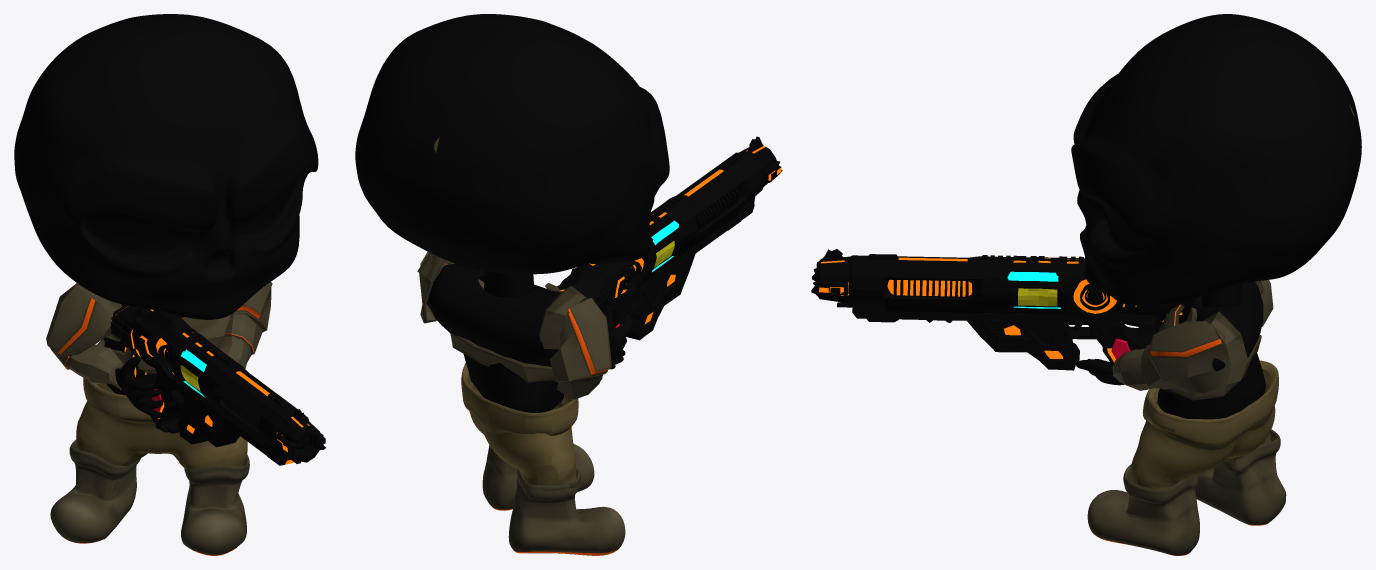
File: craneoconarmaSHOOTblend.fbx
3 renders of one model, left to right at view 1: azimuth 30°, elevation 25°; view 2: azimuth 150°, elevation 25°; view 3: azimuth 270°, elevation 25°, orthographic. The views are drawn at different scales.
Visible parts, largest first — view 1: cabeza3, arma, bota, polySurface4, pantalon, polySurface5, polySurface3.001, polySurface5.001; view 2: cabeza3, arma, polySurface5.001, bota, pantalon, polySurface4, polySurface3.001, polySurface5; view 3: cabeza3, arma, bota, pantalon, polySurface4, polySurface5.001, polySurface5, polySurface3.001.
Part boxes in pixels (left/top/right/bottom): cabeza3: left=14, top=14, right=318, bottom=319; arma: left=110, top=304, right=325, bottom=465; bota: left=50, top=439, right=249, bottom=555; polySurface4: left=46, top=282, right=272, bottom=390; pantalon: left=76, top=378, right=247, bottom=469; polySurface5: left=115, top=356, right=180, bottom=433; polySurface3.001: left=96, top=315, right=230, bottom=373; polySurface5.001: left=68, top=304, right=185, bottom=395; cabeza3: left=355, top=14, right=669, bottom=298; arma: left=557, top=136, right=782, bottom=365; polySurface5.001: left=426, top=263, right=563, bottom=412; bota: left=482, top=443, right=625, bottom=555; pantalon: left=461, top=362, right=578, bottom=485; polySurface4: left=417, top=252, right=612, bottom=399; polySurface3.001: left=450, top=271, right=561, bottom=382; polySurface5: left=605, top=311, right=632, bottom=369; cabeza3: left=1071, top=14, right=1361, bottom=307; arma: left=811, top=249, right=1188, bottom=370; bota: left=1087, top=429, right=1286, bottom=555; pantalon: left=1130, top=360, right=1278, bottom=489; polySurface4: left=1112, top=280, right=1273, bottom=392; polySurface5.001: left=1157, top=281, right=1265, bottom=419; polySurface5: left=1076, top=319, right=1162, bottom=385; polySurface3.001: left=1159, top=304, right=1261, bottom=400.
Bounding box in the file's own units: 53.23 × 98.64 × 96.61.
